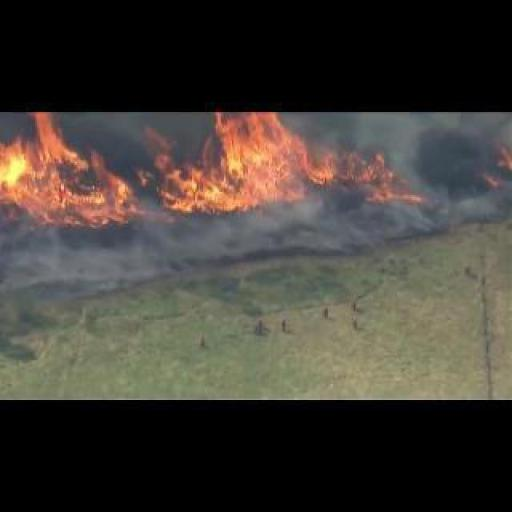smoke: (150, 114, 422, 203), (6, 118, 126, 226)
